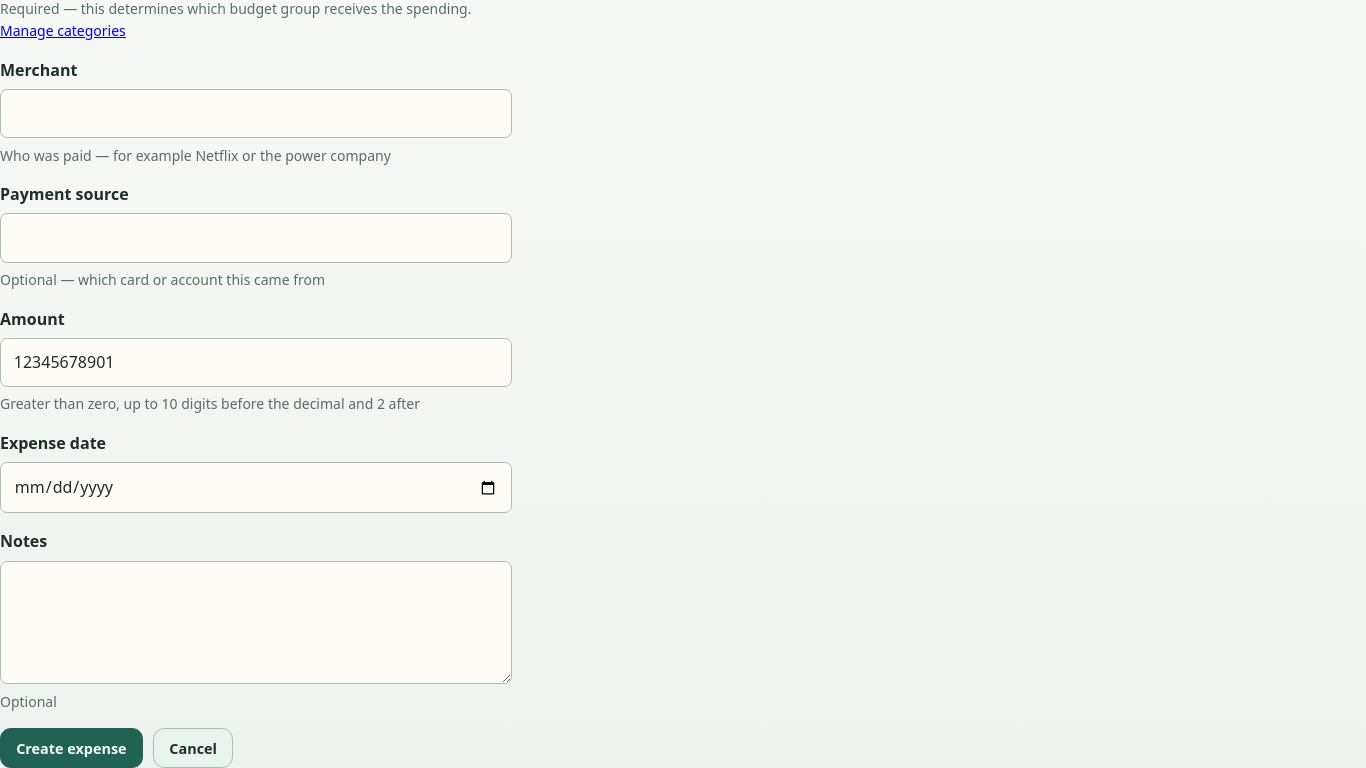
ExpenseForm › rejects an amount that is too large
(page scrolled)
Step 1. Click the button "Create expense" → point(71, 748), box [0,728,143,767]
(page scrolled)
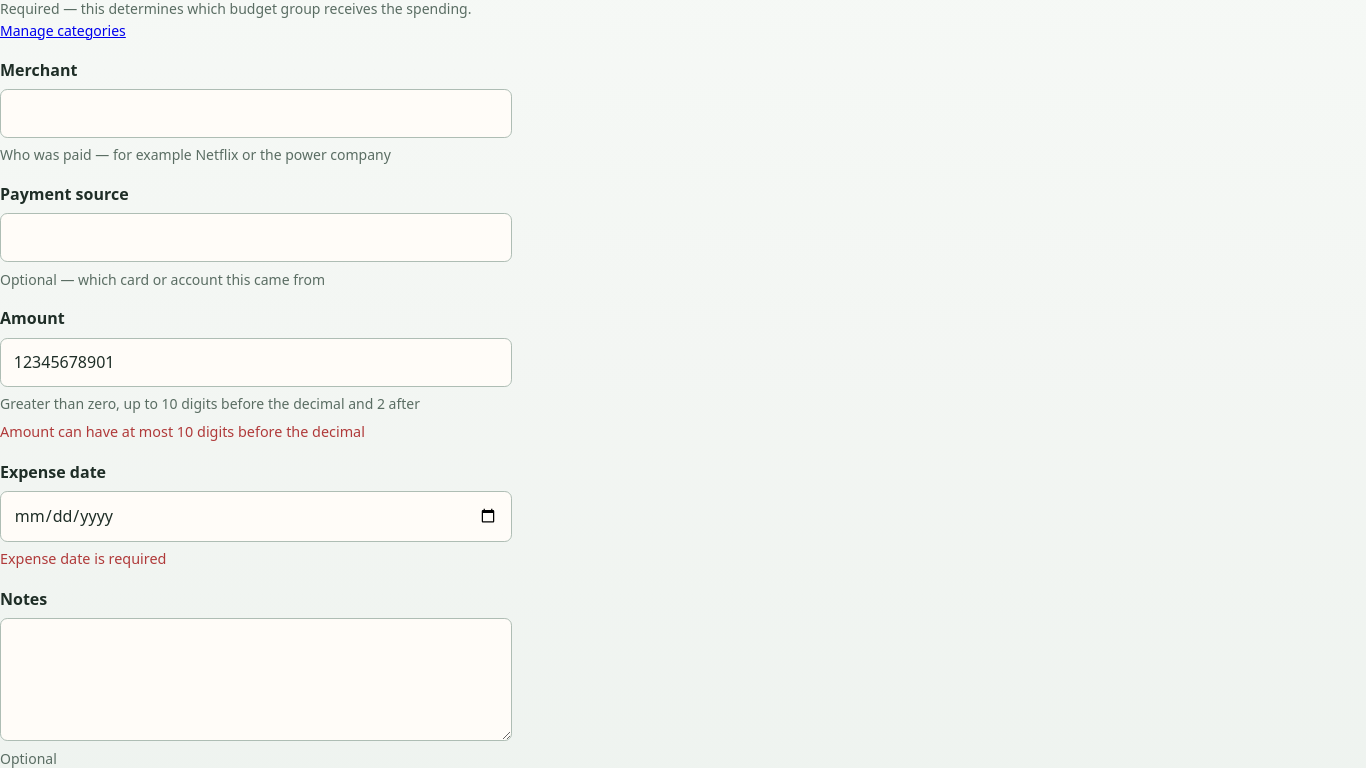
Now the text "Amount can have at most 10 digits before the decimal" is shown, box [0,422,365,441]
